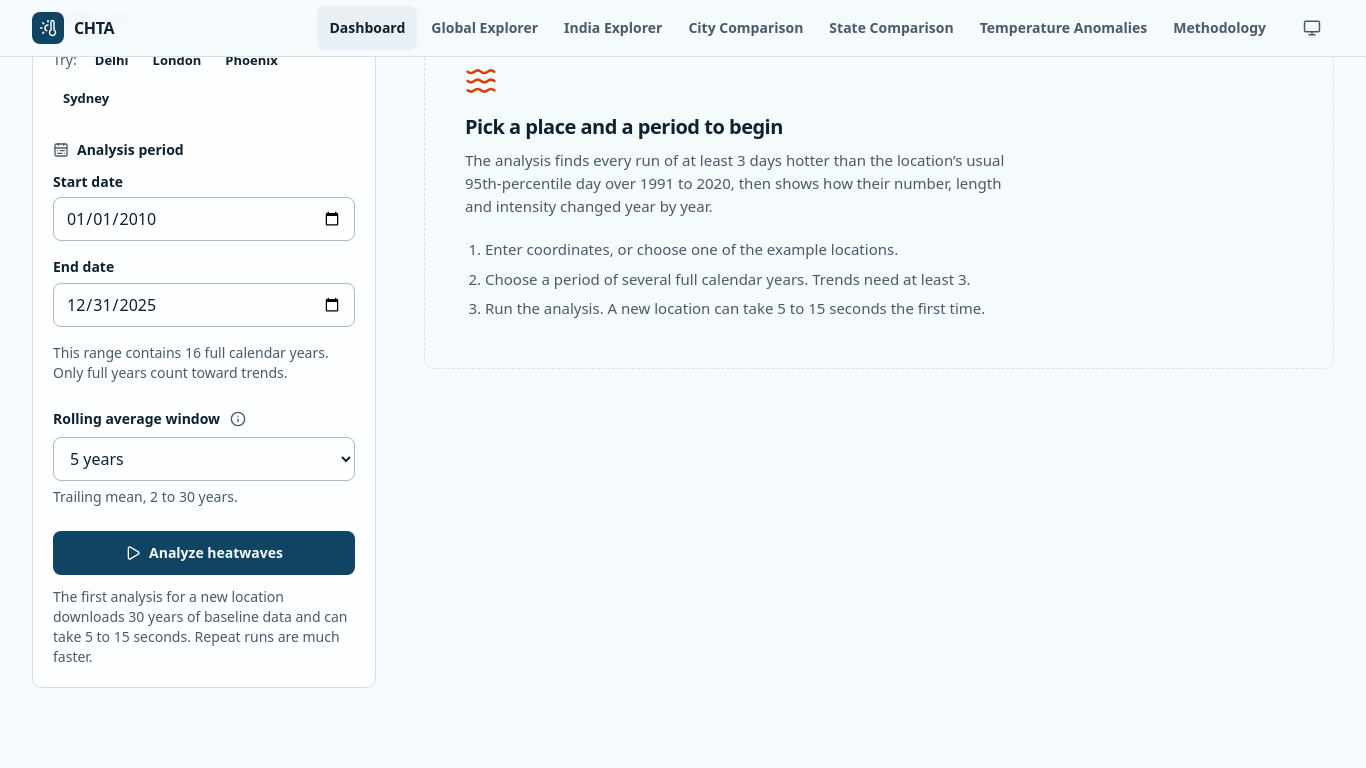
Test: loading › shows a cold-request loading state with skeletons, announces it and can be cancelled
(page scrolled)
Click the button "Analyze heatwaves". click: (204, 552)
box: [53, 530, 355, 574]
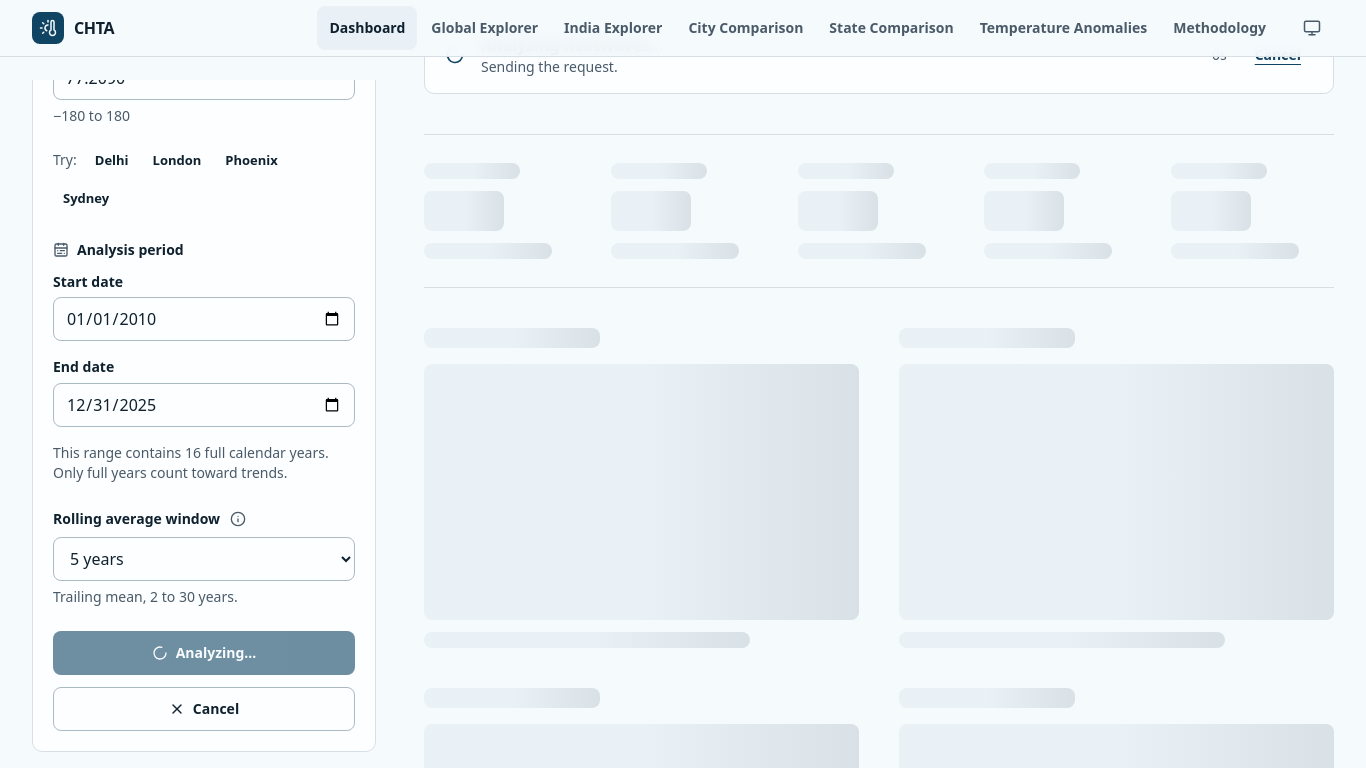
Check: the text "Analyzing heatwaves…" reads "Analyzing heatwaves… Sending the request. 0s Cancel", box [481, 57, 614, 76]
Check: the button "Analyzing…" is disabled, box [53, 631, 355, 675]
Click the button "Cancel". click: (204, 709)
box: [53, 687, 355, 731]
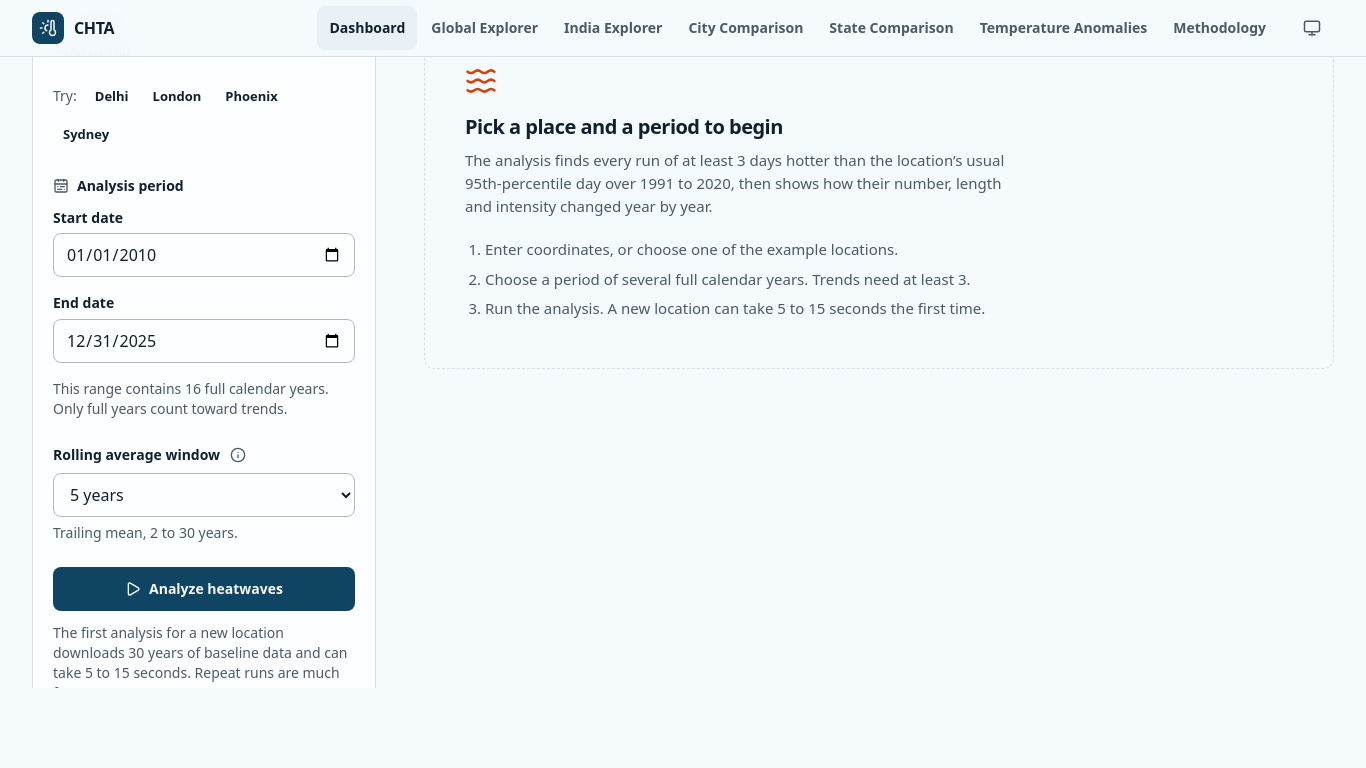
Check: the heading "Pick a place and a period to begin" is shown, box [465, 112, 783, 140]
Check: the button "Analyze heatwaves" is enabled, box [53, 566, 355, 610]
